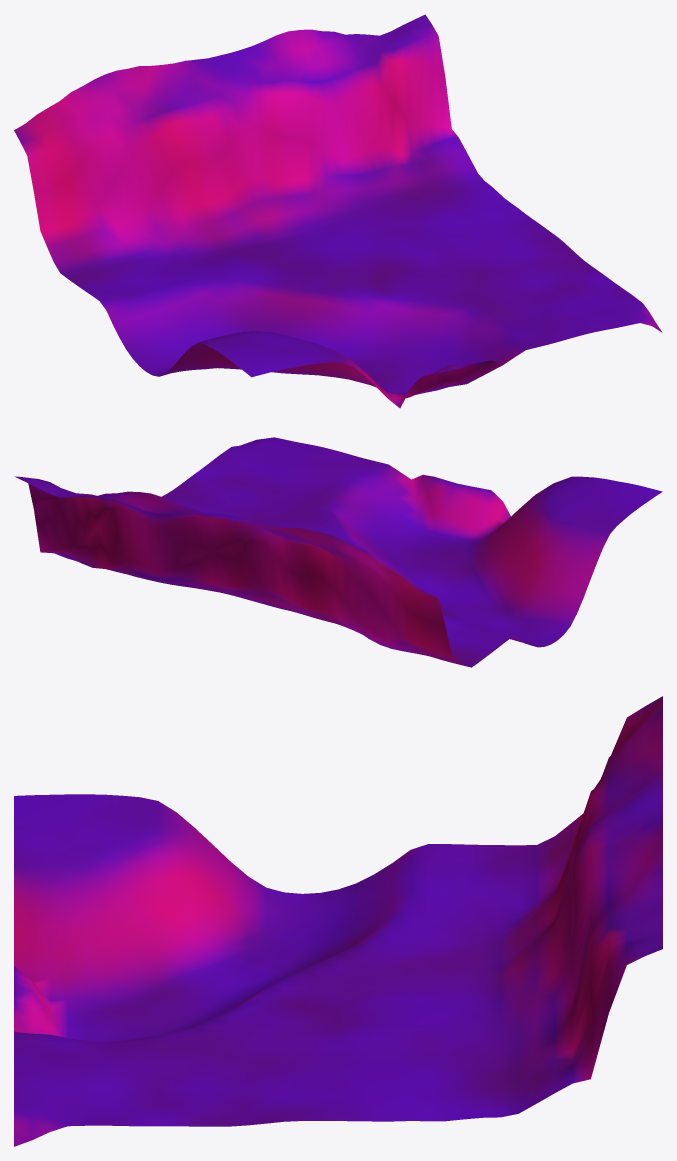
The model's file is ground_02.glb.
The picture shows the model from 3 angles, top to bottom: view 1: azimuth 30°, elevation 25°; view 2: azimuth 150°, elevation 25°; view 3: azimuth 270°, elevation 25°; orthographic projection. The views are drawn at different scales.
Visible parts, largest first — view 1: Ground_02; view 2: Ground_02; view 3: Ground_02.
Part boxes in pixels (box(x1,y1,x2,y2)): Ground_02: box(14, 14, 662, 408); Ground_02: box(14, 437, 662, 667); Ground_02: box(14, 696, 662, 1146).
Size of what is drawn, in the model's own units: 36 by 15.51 by 36.
